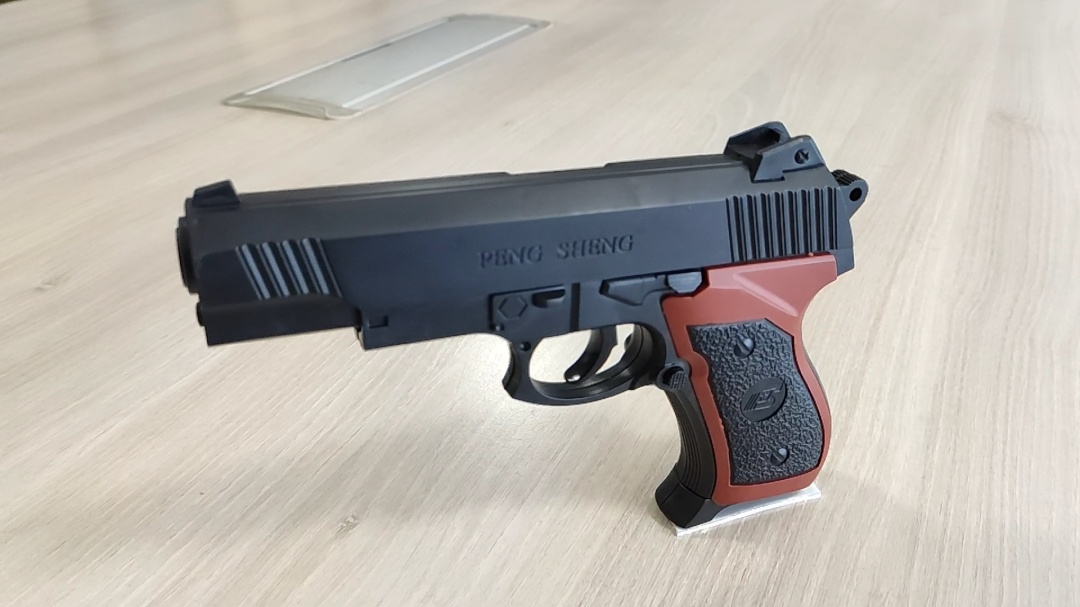gun: (316, 265, 379, 308)
